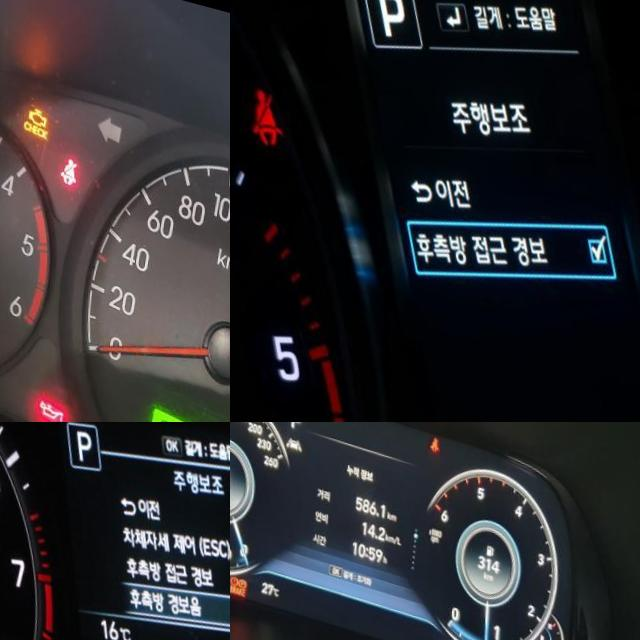LaneCenteringOff: (287, 422, 303, 437)
